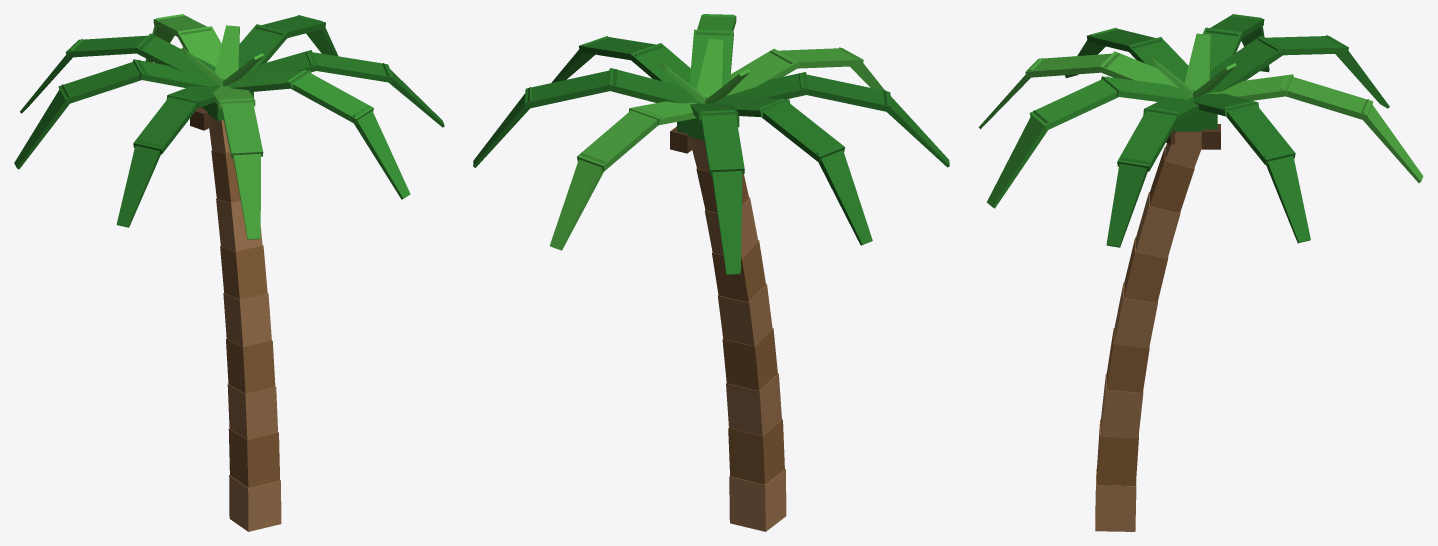
Rendered from palm_tree.glb.
The picture shows the model from 3 angles, left to right: view 1: azimuth 30°, elevation 25°; view 2: azimuth 150°, elevation 25°; view 3: azimuth 270°, elevation 25°; orthographic projection. The views are drawn at different scales.
Parts seen in each view (by area): view 1: palm_tree; view 2: palm_tree; view 3: palm_tree.
Part boxes in pixels (<box>): palm_tree: <box>14,14,444,531</box>; palm_tree: <box>473,14,949,531</box>; palm_tree: <box>978,14,1423,531</box>.
Bounding box in the file's own units: 5.49 × 6.52 × 5.54.
